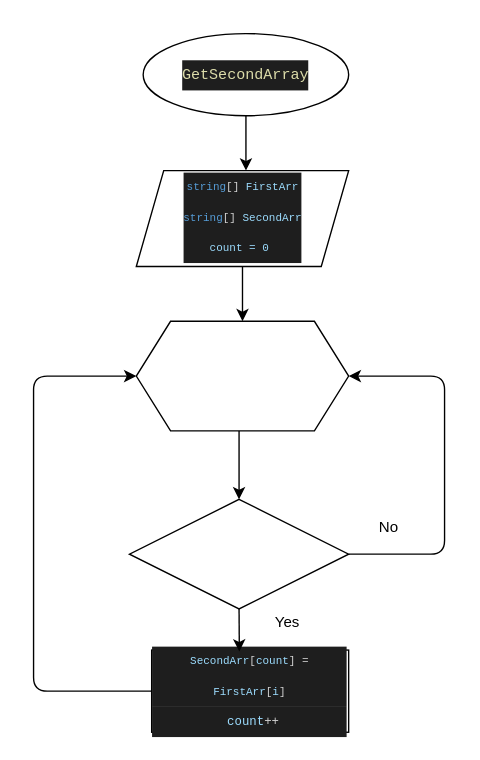
This 480x760 diagram has some shape labels left out. Here are the shapes that lost their labels. From the top down, the box of each, then its label:
(135, 320, 349, 431): i = 0 ; i < FirstArr . Length ; i ++
(128, 498, 349, 609): FirstArr [ i ]. Length <= 3
